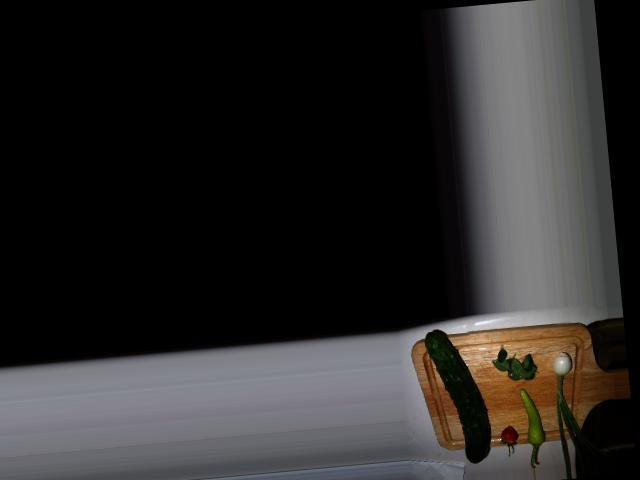cucumber: (423, 327, 491, 465)
